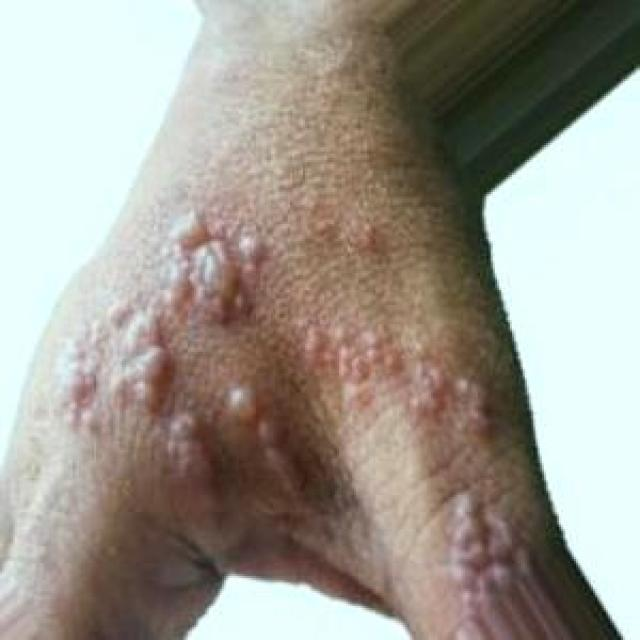Shingles: (52, 211, 263, 426), (282, 312, 494, 436), (445, 488, 531, 610), (226, 377, 308, 502), (160, 406, 230, 526)
